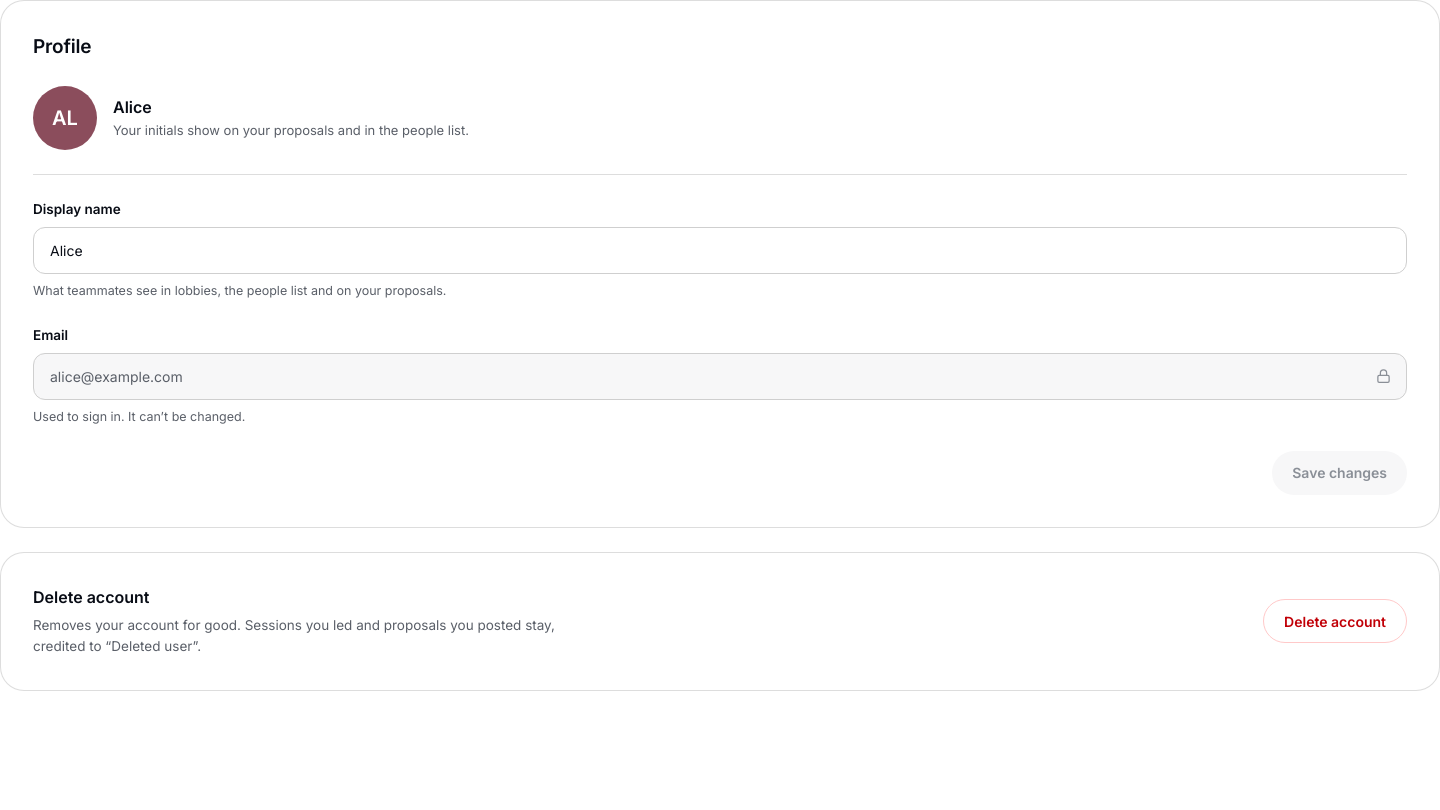
ProfilePage › saves successfully and shows a confirmation
Replace the text in the field labelled "Display name" with "Bob". click: (720, 250)
box: x1=33 y1=227 x2=1407 y2=274
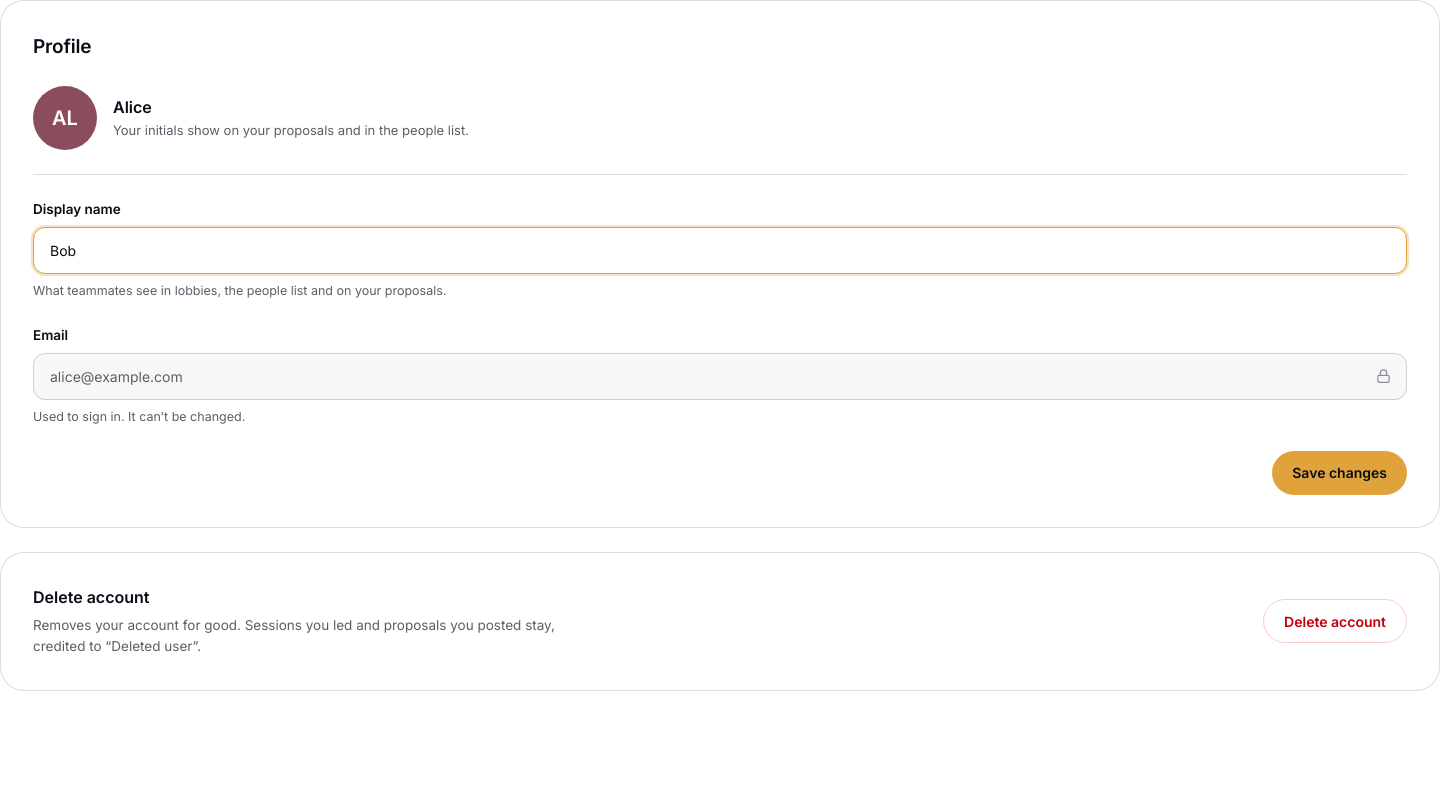
Click the button "Save changes". click: (1340, 472)
box: x1=1272 y1=450 x2=1407 y2=494
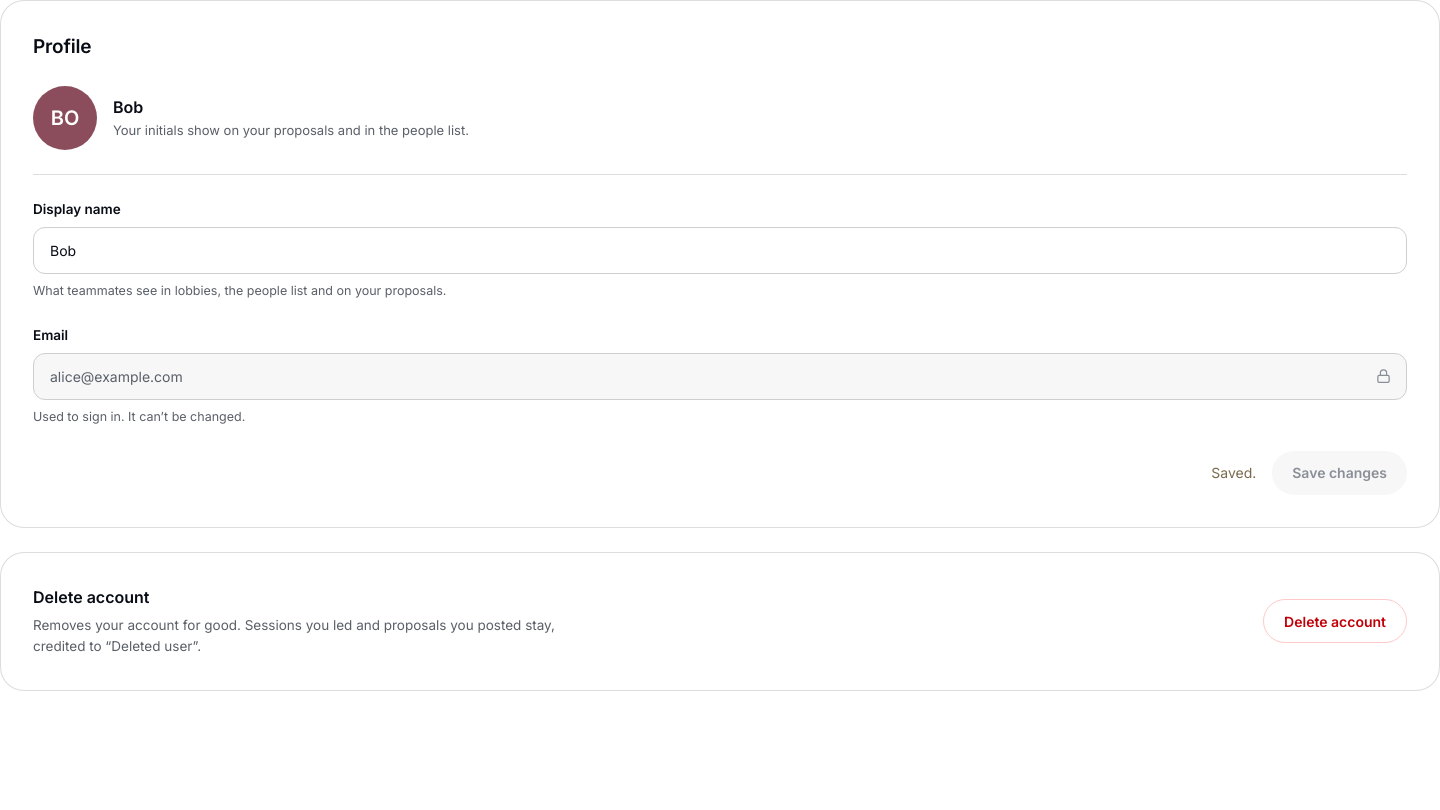
Check: the text "Saved." is shown, box x1=1211 y1=462 x2=1256 y2=482
